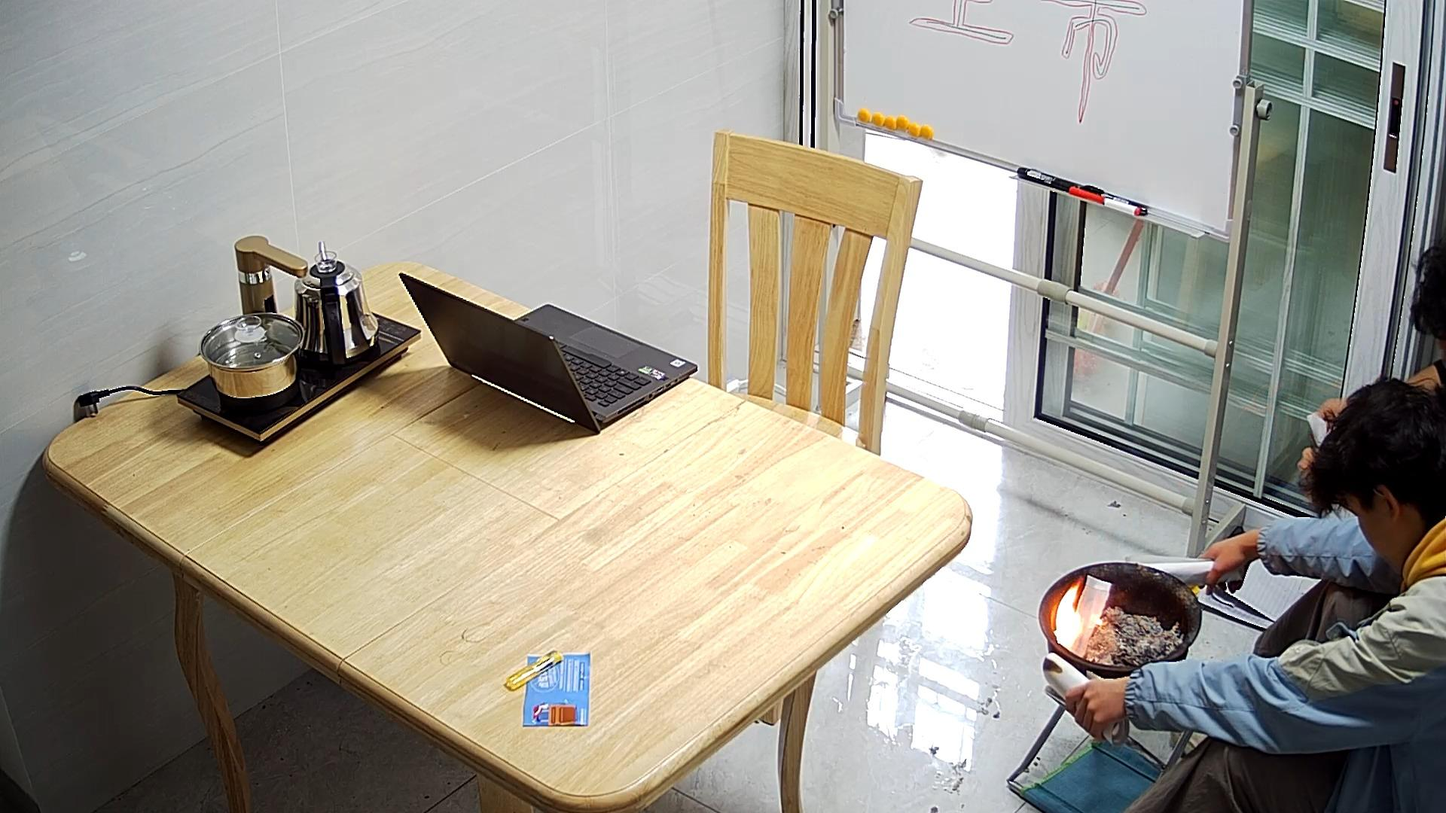fire: (1055, 586, 1084, 650), (1092, 613, 1100, 625)
